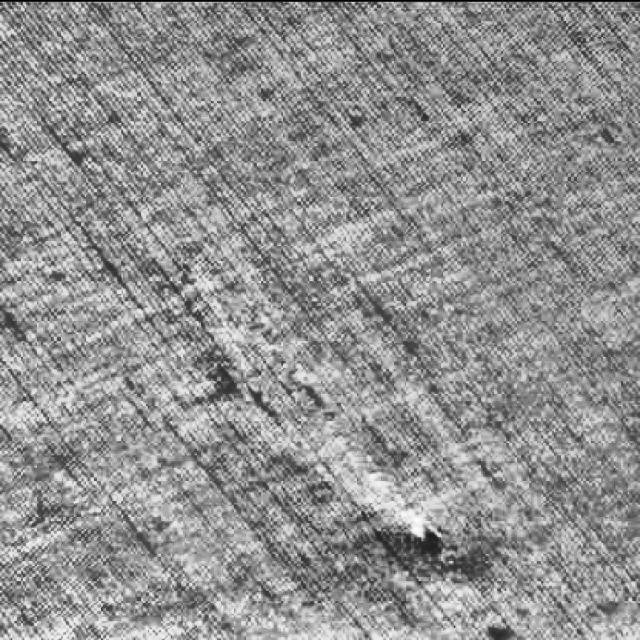thread_error: (298, 368, 454, 560)
